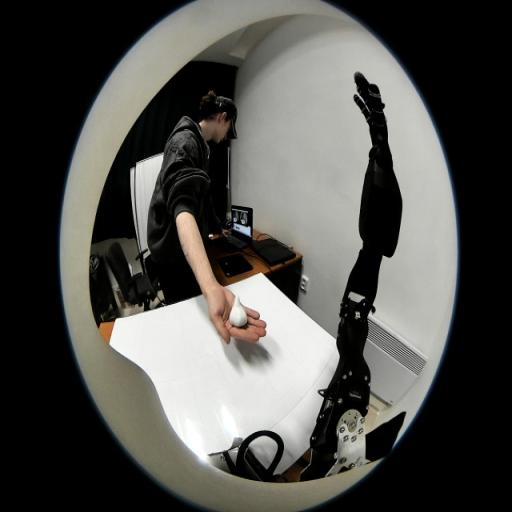Onion: (230, 294, 248, 327)
RightHand: (370, 116, 388, 145)
